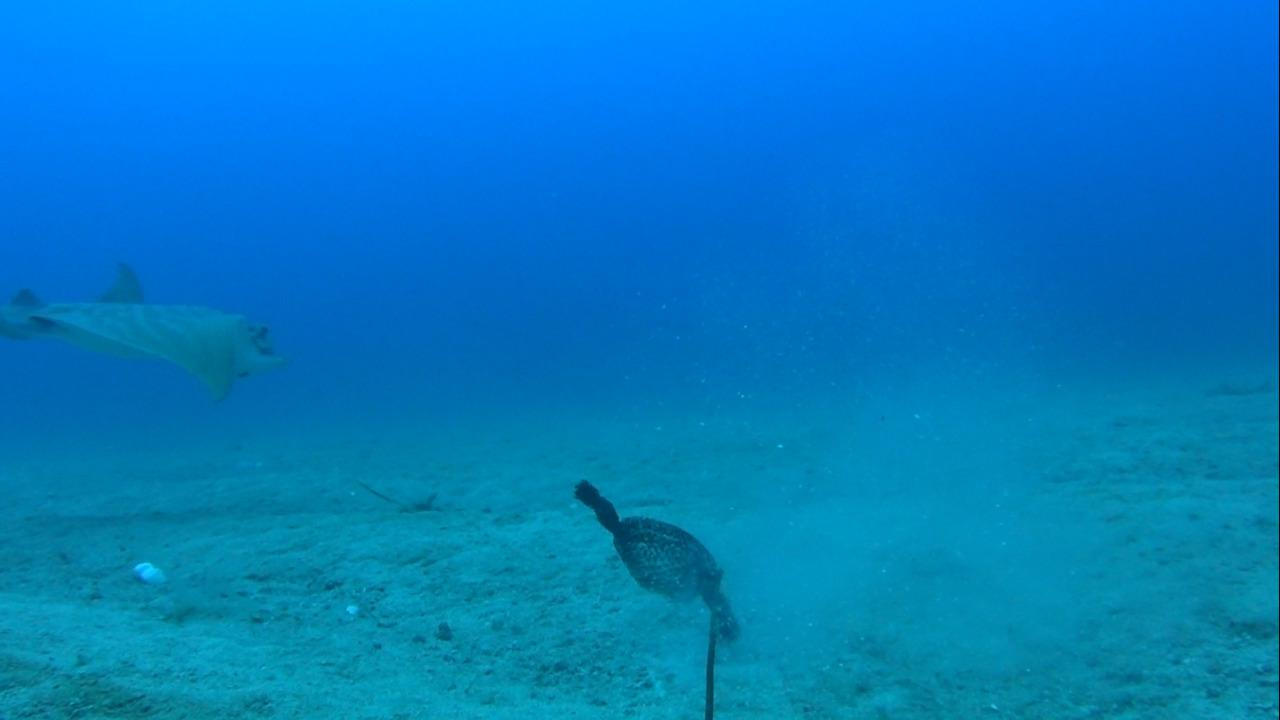myliobatis: (3, 255, 284, 414)
